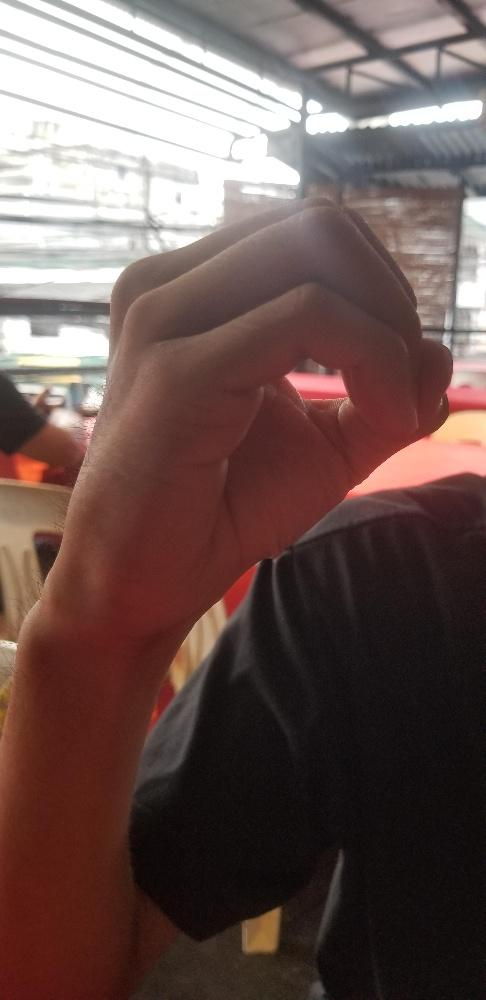o: (56, 188, 461, 656)
